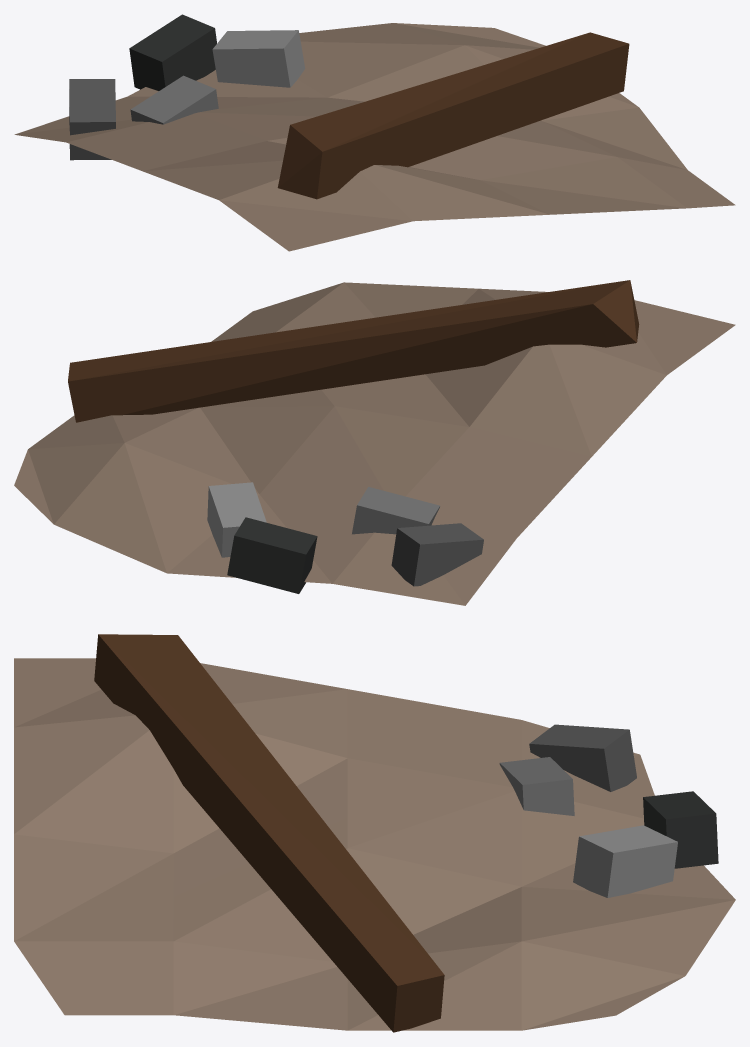
The model's file is rubbish_7.fbx.
3 renders of one model, top to bottom at view 1: azimuth 30°, elevation 25°; view 2: azimuth 150°, elevation 25°; view 3: azimuth 270°, elevation 25°, orthographic. The views are drawn at different scales.
Visible parts, largest first — view 1: Object.038; view 2: Object.038; view 3: Object.038.
Boxes of the visible parts, x1,y1,x2,y2 form: Object.038: (14, 14, 735, 251); Object.038: (14, 280, 735, 605); Object.038: (14, 634, 735, 1032).
Bounding box in the file's own units: 767 × 211 × 828.
